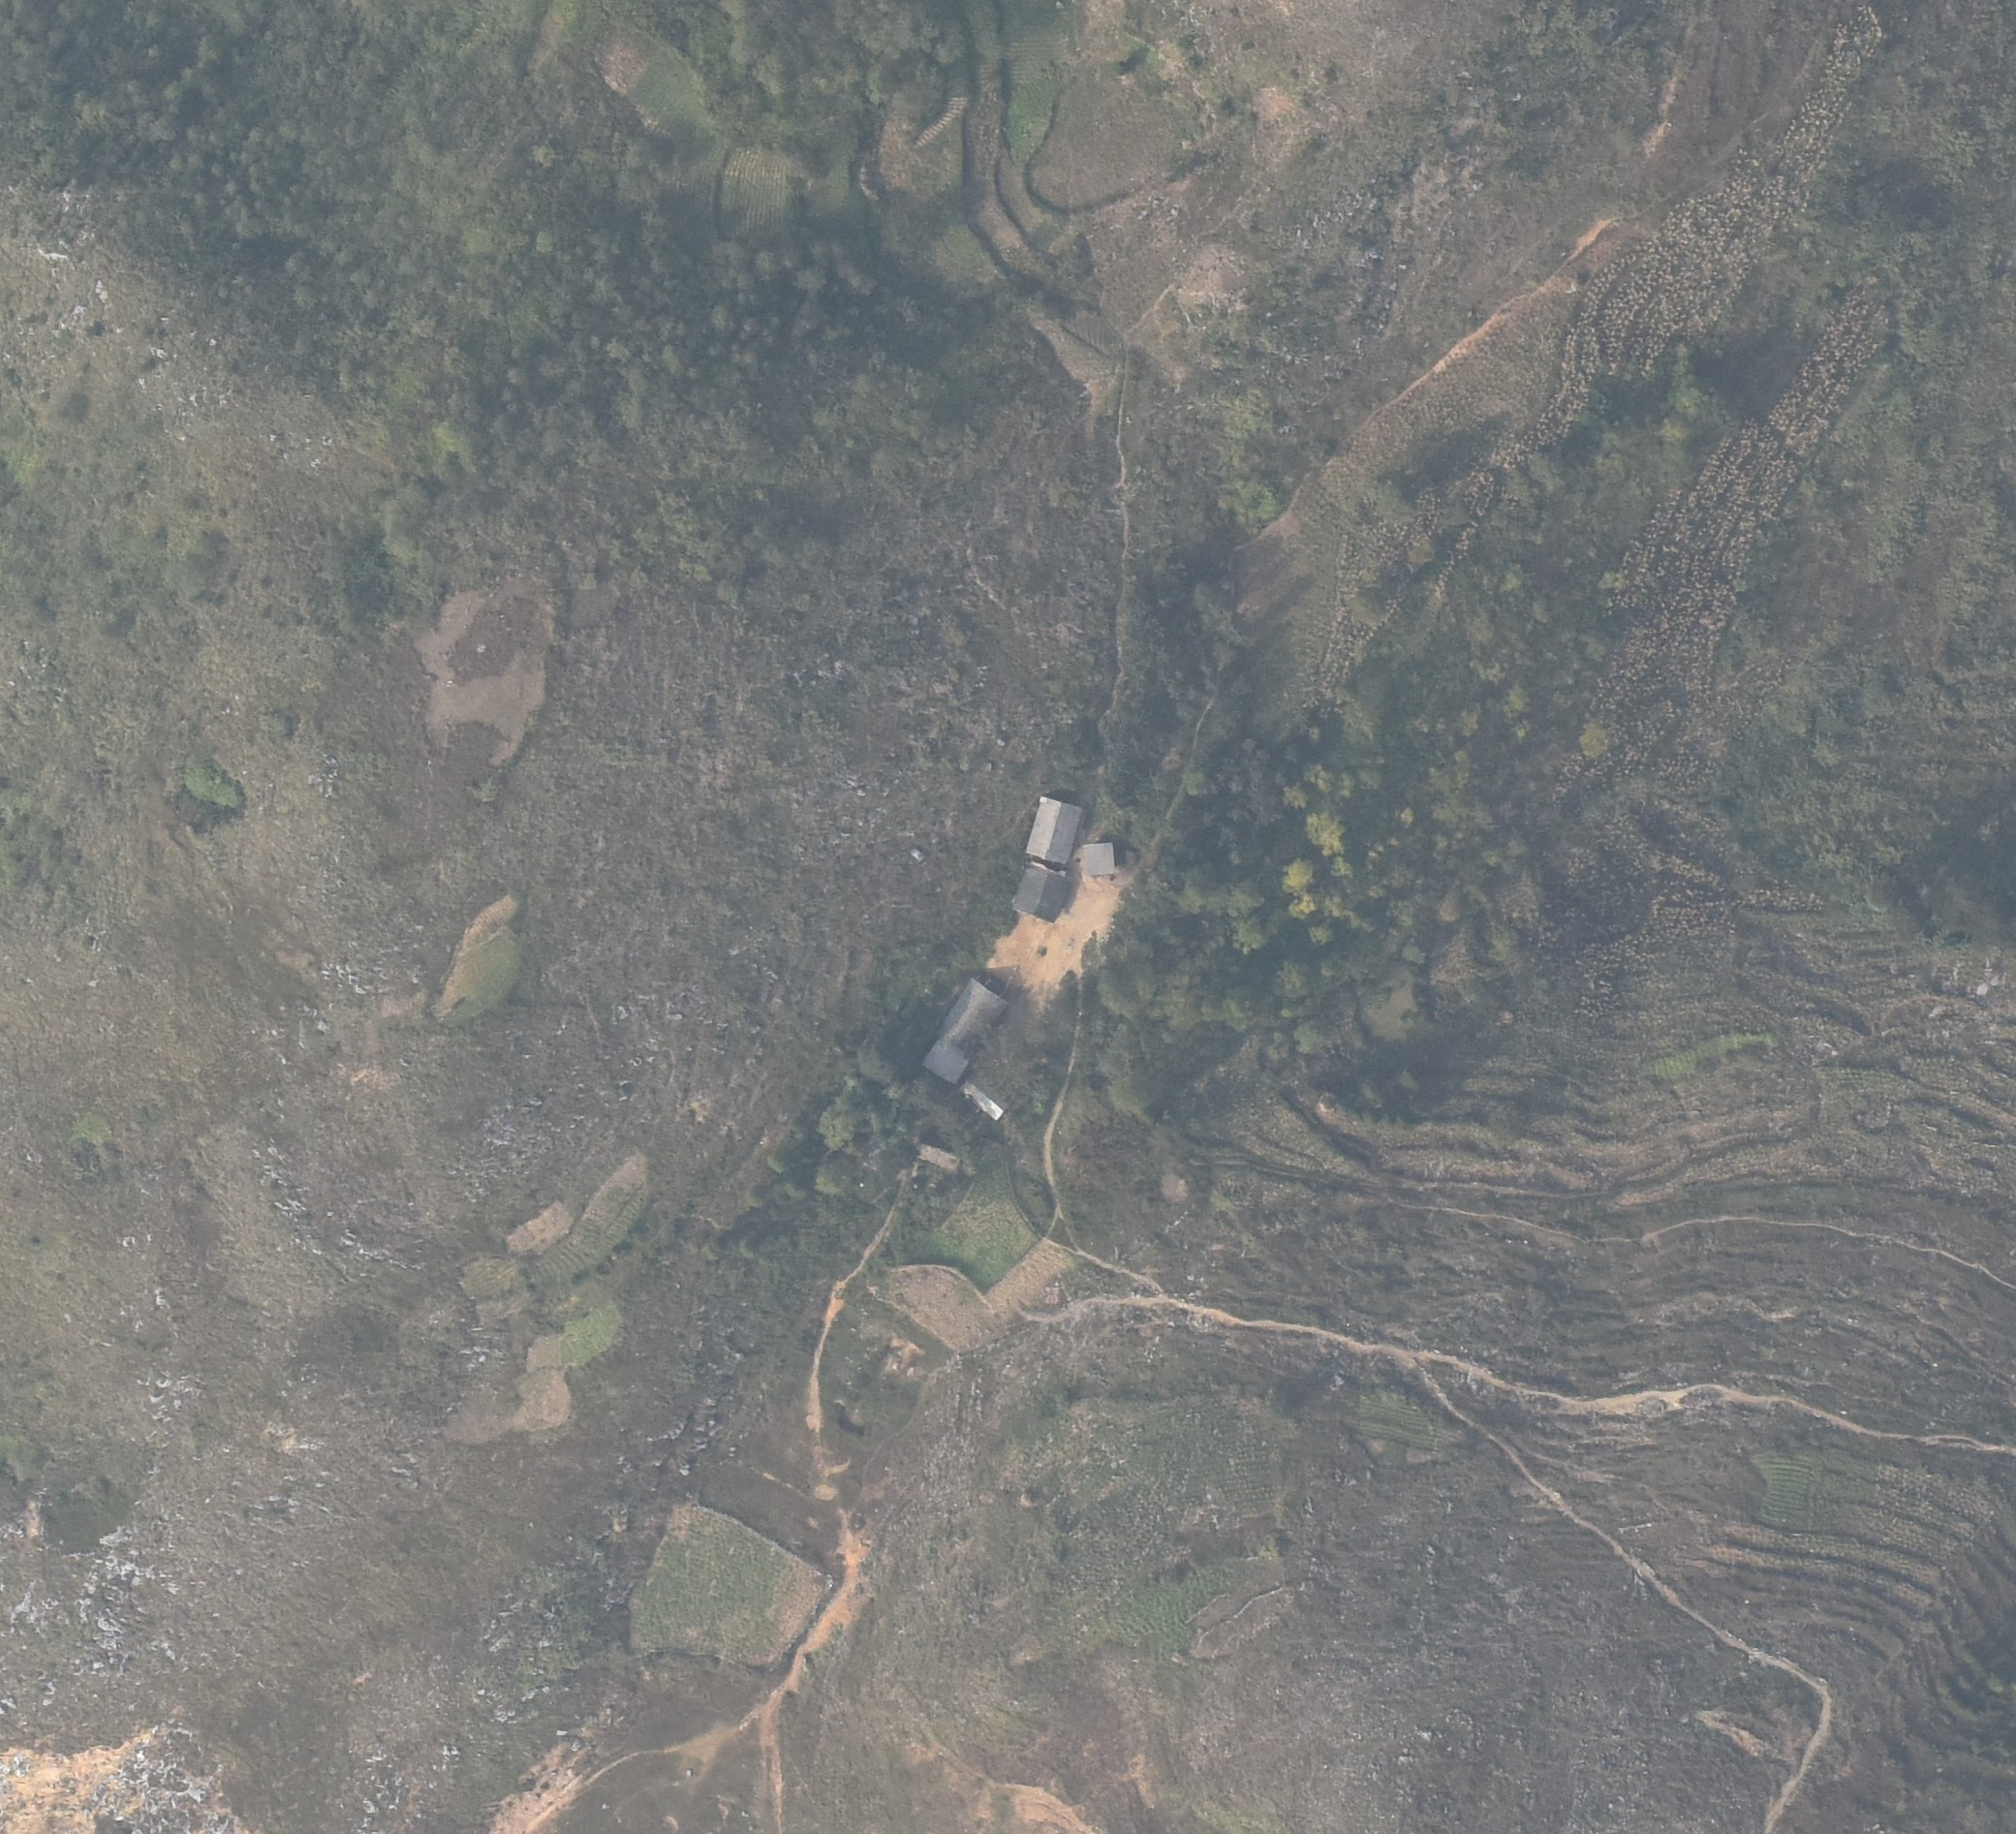building: (922, 978, 1013, 1083), (1025, 794, 1083, 864), (1011, 861, 1071, 921), (957, 1072, 1013, 1120), (1082, 841, 1117, 876)
